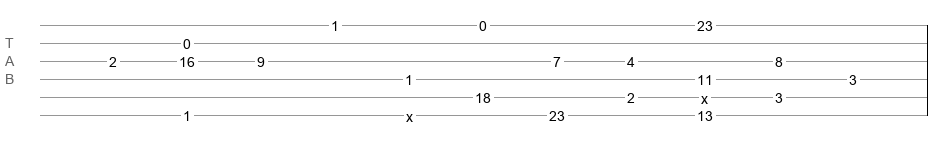0: (183, 36, 191, 46), (479, 18, 487, 28)
1: (183, 108, 191, 118), (331, 18, 339, 28), (405, 72, 413, 82)
11: (697, 72, 713, 82)
13: (697, 108, 713, 118)
16: (179, 54, 195, 64)
18: (475, 90, 491, 100)
2: (109, 54, 117, 64), (627, 90, 635, 100)
23: (549, 108, 565, 118), (697, 18, 713, 28)
3: (775, 90, 783, 100), (849, 72, 857, 82)
4: (627, 54, 635, 64)
7: (553, 54, 561, 64)
8: (775, 54, 783, 64)
9: (257, 54, 265, 64)
x: (406, 109, 413, 117), (701, 91, 708, 99)
